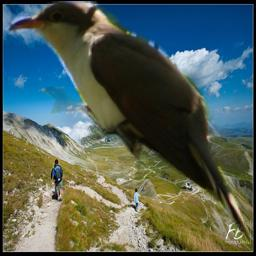Cuckoo: (3, 1, 249, 245)
